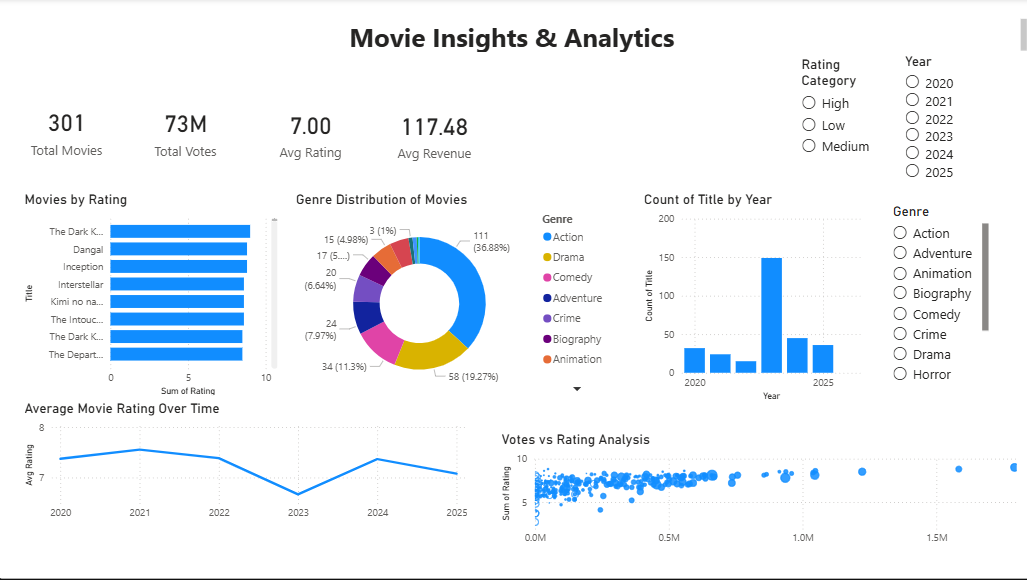

The page's visual inventory and layout, read from the dashboard file:
{"tool":"powerbi","page":{"name":"Page 1","canvas":[1280,720],"ordinal":0},"visuals":[{"type":"textbox","box":[9.5,20.8,1269.9,51.1],"z":0},{"type":"card","fields":{"Values":["moviemate_dashboard.Avg Rating"]},"box":[309.9,115.3,153.1,102],"z":1},{"type":"card","fields":{"Values":["moviemate_dashboard.Total Movies"]},"box":[28.3,109.6,113.4,107.7],"z":2},{"type":"card","fields":{"Values":["moviemate_dashboard.Total Votes"]},"box":[141.7,88.8,181.4,151.2],"z":3},{"type":"card","fields":{"Values":["moviemate_dashboard.Avg Revenue"]},"box":[463,102,155,130.4],"z":4},{"type":"clusteredBarChart","title":"Movies by Rating","fields":{"Category":["moviemate_dashboard.Title"],"Y":["Sum(moviemate_dashboard.Rating)"]},"box":[28.3,240,323.2,257],"z":5},{"type":"lineChart","title":"Average Movie Rating Over Time","fields":{"Category":["moviemate_dashboard.Year"],"Y":["moviemate_dashboard.Avg Rating"]},"box":[28.3,497,557.5,156.9],"z":6},{"type":"donutChart","title":"Genre Distribution of Movies","fields":{"Category":["moviemate_dashboard.Genre"],"Y":["moviemate_dashboard.Total Movies"]},"box":[364.7,240,398.7,257],"z":7},{"type":"scatterChart","title":"Votes vs Rating Analysis","fields":{"X":["Sum(moviemate_dashboard.Votes)"],"Y":["Sum(moviemate_dashboard.Rating)"],"Size":["Sum(moviemate_dashboard.Revenue (Millions))"],"Category":["moviemate_dashboard.Title"]},"box":[618,536.7,661.4,149.3],"z":8},{"type":"listSlicer","fields":{"Values":["moviemate_dashboard.Year"]},"box":[1118.5,68.1,145.7,206.3],"z":9},{"type":"listSlicer","fields":{"Values":["moviemate_dashboard.Rating Category"]},"box":[989.8,71.9,128.7,270.6],"z":10},{"type":"listSlicer","fields":{"Values":["moviemate_dashboard.Genre"]},"box":[1103.4,253.6,128.7,229],"z":11},{"type":"columnChart","fields":{"Category":["moviemate_dashboard.Year"],"Y":["CountNonNull(moviemate_dashboard.Title)"]},"box":[794.9,240.4,278.2,263.1],"z":12}]}

Visuals, with their boxes in screenshot pixels (x1, y1, x2, y2), scaled from the page's 1280x720 canvas onto the 1027x580 screenshot:
textbox: [x1=8, y1=17, x2=1026, y2=58]
card - moviemate_dashboard.Avg Rating: [x1=249, y1=93, x2=371, y2=175]
card - moviemate_dashboard.Total Movies: [x1=23, y1=88, x2=114, y2=175]
card - moviemate_dashboard.Total Votes: [x1=114, y1=72, x2=259, y2=193]
card - moviemate_dashboard.Avg Revenue: [x1=371, y1=82, x2=496, y2=187]
"Movies by Rating" clusteredBarChart: [x1=23, y1=193, x2=282, y2=400]
"Average Movie Rating Over Time" lineChart: [x1=23, y1=400, x2=470, y2=527]
"Genre Distribution of Movies" donutChart: [x1=293, y1=193, x2=613, y2=400]
"Votes vs Rating Analysis" scatterChart: [x1=496, y1=432, x2=1026, y2=553]
listSlicer - moviemate_dashboard.Year: [x1=897, y1=55, x2=1014, y2=221]
listSlicer - moviemate_dashboard.Rating Category: [x1=794, y1=58, x2=897, y2=276]
listSlicer - moviemate_dashboard.Genre: [x1=885, y1=204, x2=989, y2=389]
columnChart - moviemate_dashboard.Year x CountNonNull(moviemate_dashboard.Title): [x1=638, y1=194, x2=861, y2=406]
